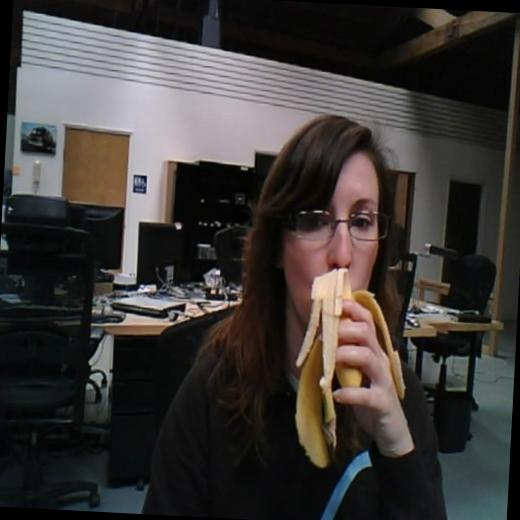Banana: (288, 263, 414, 476)
